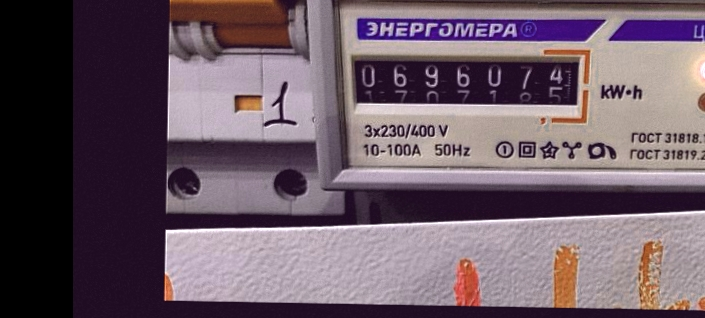0: (359, 63, 379, 88), (486, 62, 504, 88)
4: (548, 62, 565, 84)
5: (548, 85, 564, 105)
6: (454, 61, 473, 89), (391, 62, 410, 88)
7: (518, 64, 535, 90)
9: (423, 62, 440, 88)
screen: (341, 42, 595, 127)
